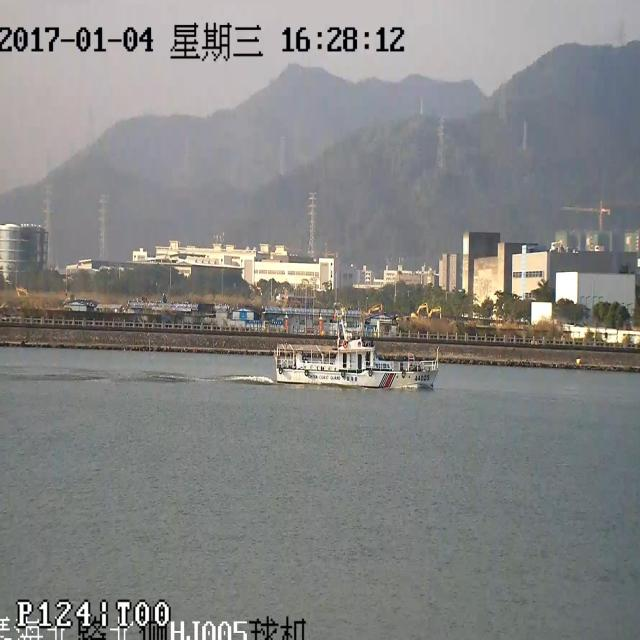houseboat: (266, 302, 446, 397)
